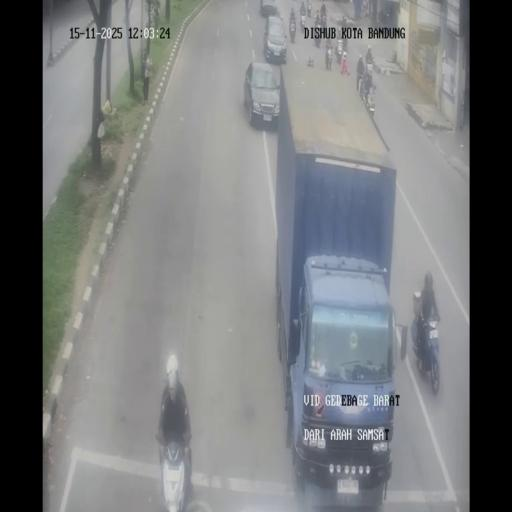3: (274, 70, 398, 502)
car: (244, 60, 280, 127), (263, 14, 288, 64), (259, 0, 278, 18)
truck: (414, 308, 442, 394), (161, 442, 188, 510), (363, 74, 370, 103), (313, 24, 321, 47), (367, 94, 375, 116), (335, 42, 343, 63), (289, 20, 296, 42), (325, 48, 332, 70), (366, 58, 373, 79), (362, 1, 370, 17), (320, 12, 327, 29), (337, 22, 344, 38), (300, 9, 306, 27), (307, 4, 311, 17)
